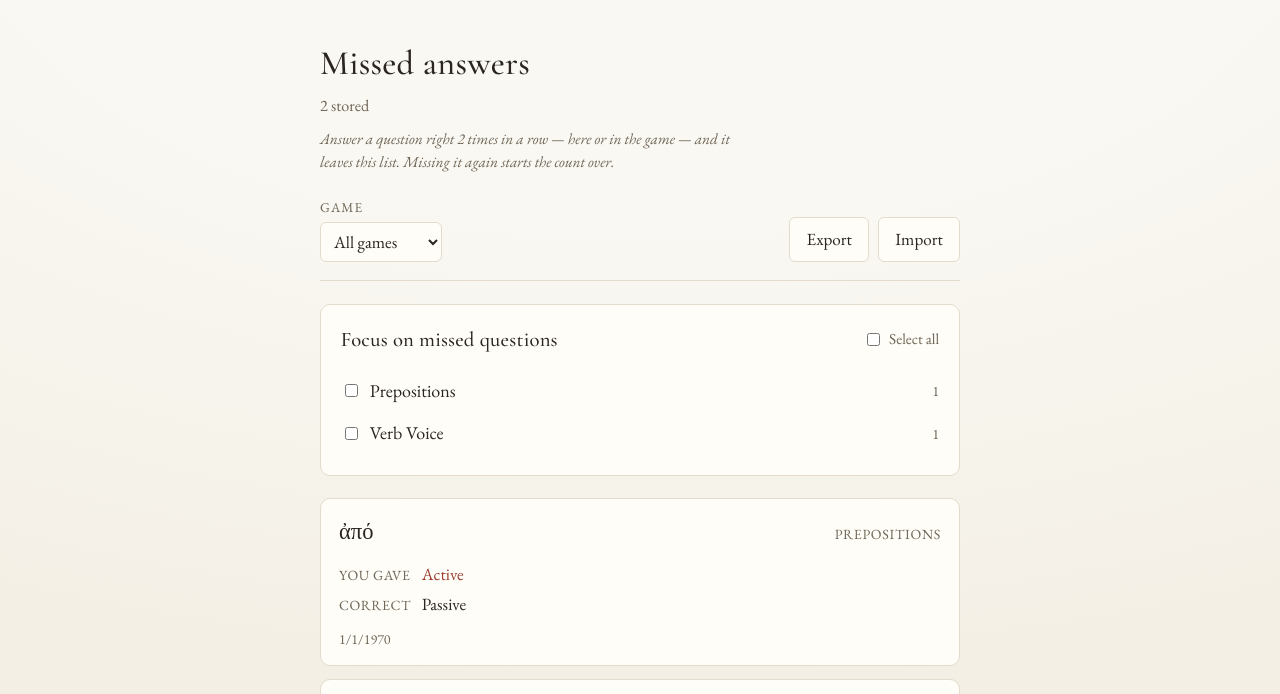
Test: Review focus panel › select-all checks every game and links them all
Click the checkbox labelled "Select all". click: (873, 339)
box: [867,333,880,346]
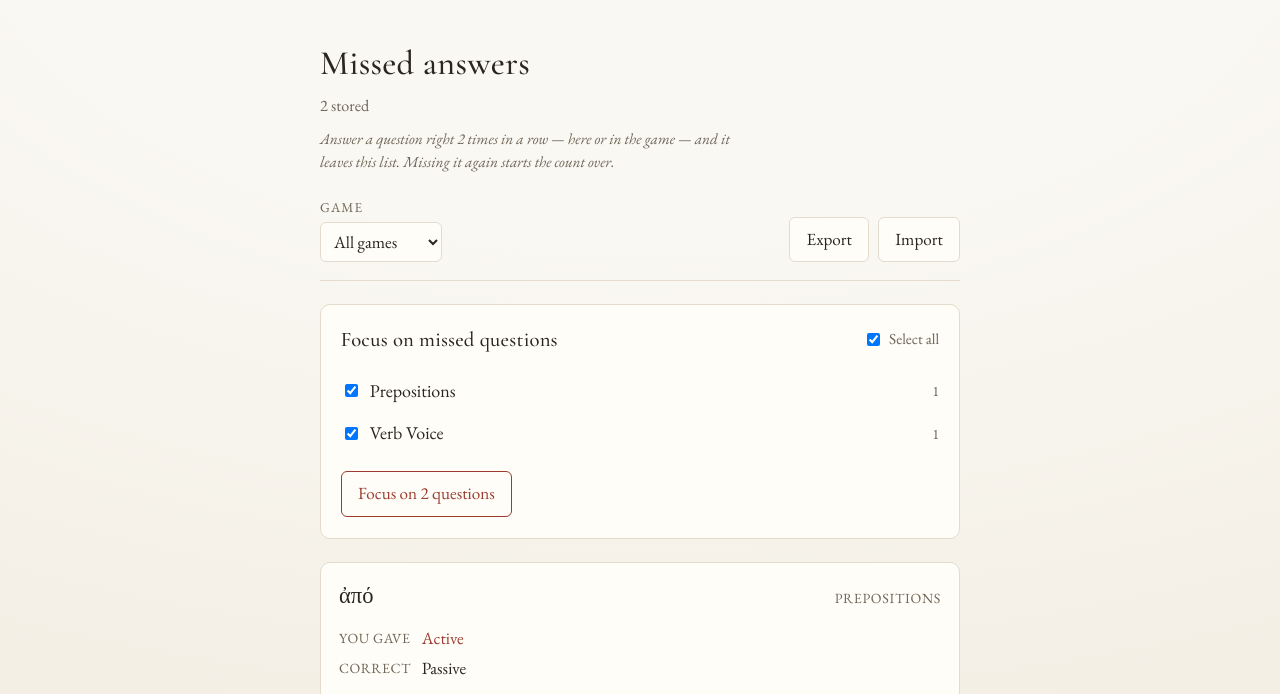
Expected: the link with class "focus-launch" shows "2", [341,471,512,516]
